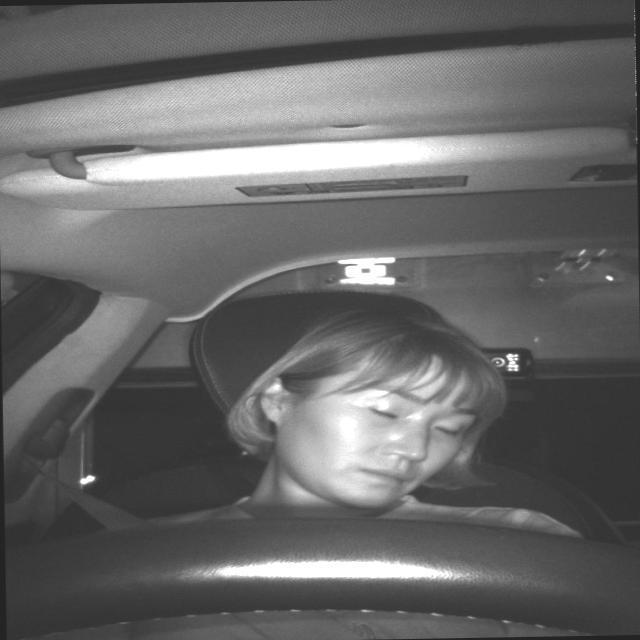Inattentive: (261, 304, 505, 514)
